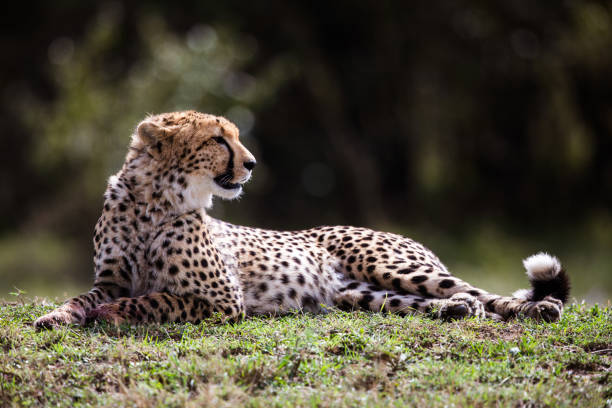cheetah: (121, 95, 267, 220)
